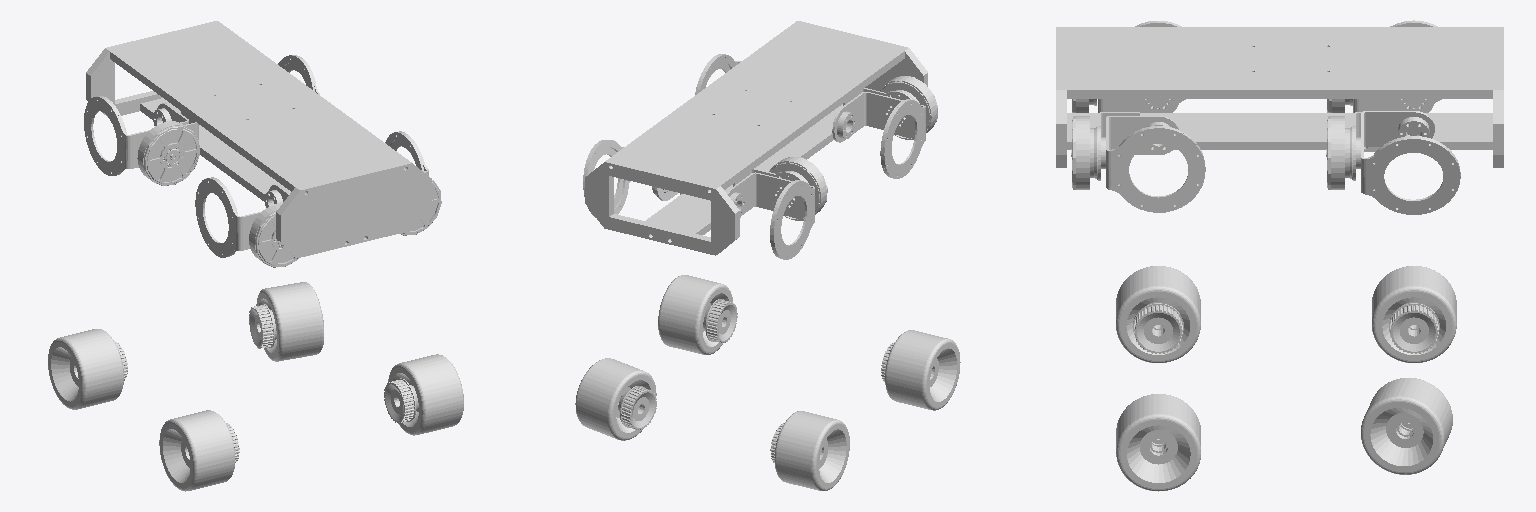
The robot description file, URDF, robot "legplsdontdie":
<?xml version="1.0" encoding="utf-8"?>
<!-- This URDF was automatically created by SolidWorks to URDF Exporter! Originally created by Stephen Brawner (brawner@gmail.com) 
     Commit Version: 1.6.0-4-g7f85cfe  Build Version: 1.6.7995.38578
     For more information, please see http://wiki.ros.org/sw_urdf_exporter -->
<robot
  name="legplsdontdie">
  <link
    name="base_link">
    <inertial>
      <origin
        xyz="0.837491492139642 -0.972075564965408 1.16249858131939"
        rpy="0 0 0" />
      <mass
        value="2.08362654858377" />
      <inertia
        ixx="0.0301960878113478"
        ixy="2.26157794619122E-18"
        ixz="-3.75267730629766E-10"
        iyy="0.00535275266306519"
        iyz="-2.31046346684137E-07"
        izz="0.0345230243527963" />
    </inertial>
    <visual>
      <origin
        xyz="0 0 0"
        rpy="0 0 0" />
      <geometry>
        <mesh
          filename="package://legplsdontdie/meshes/base_link.STL" />
      </geometry>
      <material
        name="">
        <color
          rgba="0.894117647058823 0.894117647058823 0.894117647058823 1" />
      </material>
    </visual>
    <collision>
      <origin
        xyz="0 0 0"
        rpy="0 0 0" />
      <geometry>
        <mesh
          filename="package://legplsdontdie/meshes/base_link.STL" />
      </geometry>
    </collision>
  </link>
  <link
    name="front_right_hip">
    <inertial>
      <origin
        xyz="0.00586709982152644 -0.00109387924658988 0.0786652080445772"
        rpy="0 0 0" />
      <mass
        value="0.0682835218758289" />
      <inertia
        ixx="0.00010899842767143"
        ixy="7.61836482680585E-06"
        ixz="1.69738785432681E-05"
        iyy="0.000148439931165717"
        iyz="-3.1646114936272E-06"
        izz="0.00011919420492883" />
    </inertial>
    <visual>
      <origin
        xyz="0 0 0"
        rpy="0 0 0" />
      <geometry>
        <mesh
          filename="package://legplsdontdie/meshes/front_right_hip.STL" />
      </geometry>
      <material
        name="">
        <color
          rgba="0.894117647058823 0.894117647058823 0.894117647058823 1" />
      </material>
    </visual>
    <collision>
      <origin
        xyz="0 0 0"
        rpy="0 0 0" />
      <geometry>
        <mesh
          filename="package://legplsdontdie/meshes/front_right_hip.STL" />
      </geometry>
    </collision>
  </link>
  <joint
    name="joint_FR1"
    type="continuous">
    <origin
      xyz="0.938841492139651 -0.736351710589816 1.12887994406759"
      rpy="1.5707963267949 0 0" />
    <parent
      link="base_link" />
    <child
      link="front_right_hip" />
    <axis
      xyz="0 0 1" />
  </joint>
  <link
    name="front_right_upperleg">
    <inertial>
      <origin
        xyz="0.00576717017665218 -0.0238153004074827 0.00489500079392668"
        rpy="0 0 0" />
      <mass
        value="0.25409816353557" />
      <inertia
        ixx="0.000290608679969887"
        ixy="-1.55295018330674E-05"
        ixz="-2.64322160417468E-07"
        iyy="0.000212077178180232"
        iyz="-9.02281683603711E-08"
        izz="0.000253161049920536" />
    </inertial>
    <visual>
      <origin
        xyz="0 0 0"
        rpy="0 0 0" />
      <geometry>
        <mesh
          filename="package://legplsdontdie/meshes/front_right_upperleg.STL" />
      </geometry>
      <material
        name="">
        <color
          rgba="0.894117647058823 0.894117647058823 0.894117647058823 1" />
      </material>
    </visual>
    <collision>
      <origin
        xyz="0 0 0"
        rpy="0 0 0" />
      <geometry>
        <mesh
          filename="package://legplsdontdie/meshes/front_right_upperleg.STL" />
      </geometry>
    </collision>
  </link>
  <joint
    name="joint_FR2"
    type="continuous">
    <origin
      xyz="0 0 0.05"
      rpy="0 0 0" />
    <parent
      link="front_right_hip" />
    <child
      link="front_right_upperleg" />
    <axis
      xyz="1 0 0" />
  </joint>
  <link
    name="front_right_lowerleg">
    <inertial>
      <origin
        xyz="-0.0496823860958082 -0.109304374844073 -0.0429283468923117"
        rpy="0 0 0" />
      <mass
        value="0.228830429344517" />
      <inertia
        ixx="0.000227364537542388"
        ixy="-2.22296498521375E-05"
        ixz="-1.70540956206237E-06"
        iyy="0.000110497362697726"
        iyz="-1.14299459021802E-05"
        izz="0.000209619285831467" />
    </inertial>
    <visual>
      <origin
        xyz="0 0 0"
        rpy="0 0 0" />
      <geometry>
        <mesh
          filename="package://legplsdontdie/meshes/front_right_lowerleg.STL" />
      </geometry>
      <material
        name="">
        <color
          rgba="0.894117647058823 0.894117647058823 0.894117647058823 1" />
      </material>
    </visual>
    <collision>
      <origin
        xyz="0 0 0"
        rpy="0 0 0" />
      <geometry>
        <mesh
          filename="package://legplsdontdie/meshes/front_right_lowerleg.STL" />
      </geometry>
    </collision>
  </link>
  <joint
    name="joint_FR3"
    type="continuous">
    <origin
      xyz="0 -0.179378082493681 0.00500000000132195"
      rpy="0 0 0" />
    <parent
      link="front_right_upperleg" />
    <child
      link="front_right_lowerleg" />
    <axis
      xyz="1 0 0" />
  </joint>
  <link
    name="front_right_wheel">
    <inertial>
      <origin
        xyz="0.00214758911403679 0.0010586642196917 0.00749493675092416"
        rpy="0 0 0" />
      <mass
        value="0.433565950722189" />
      <inertia
        ixx="0.000585506608611164"
        ixy="4.73764686392091E-06"
        ixz="3.35406588929725E-05"
        iyy="0.000403944888639664"
        iyz="8.74640917109006E-07"
        izz="0.000410013184880366" />
    </inertial>
    <visual>
      <origin
        xyz="0 0 0"
        rpy="0 0 0" />
      <geometry>
        <mesh
          filename="package://legplsdontdie/meshes/front_right_wheel.STL" />
      </geometry>
      <material
        name="">
        <color
          rgba="0.894117647058823 0.894117647058823 0.894117647058823 1" />
      </material>
    </visual>
    <collision>
      <origin
        xyz="0 0 0"
        rpy="0 0 0" />
      <geometry>
        <mesh
          filename="package://legplsdontdie/meshes/front_right_wheel.STL" />
      </geometry>
    </collision>
  </link>
  <joint
    name="joint_FR4"
    type="continuous">
    <origin
      xyz="0.027541 -0.16 0"
      rpy="0 0 0" />
    <parent
      link="front_right_lowerleg" />
    <child
      link="front_right_wheel" />
    <axis
      xyz="1 0 0" />
  </joint>
  <link
    name="back_right_hip">
    <inertial>
      <origin
        xyz="0.00596820174941048 -1.03465580547635E-08 0.0786652080445773"
        rpy="0 0 0" />
      <mass
        value="0.06828352187583" />
      <inertia
        ixx="0.000107578045766239"
        ixy="2.87306283016807E-11"
        ixz="1.7266363795163E-05"
        iyy="0.000149860313070913"
        iyz="1.73076976796288E-11"
        izz="0.000119194204928831" />
    </inertial>
    <visual>
      <origin
        xyz="0 0 0"
        rpy="0 0 0" />
      <geometry>
        <mesh
          filename="package://legplsdontdie/meshes/back_right_hip.STL" />
      </geometry>
      <material
        name="">
        <color
          rgba="0.894117647058823 0.894117647058823 0.894117647058823 1" />
      </material>
    </visual>
    <collision>
      <origin
        xyz="0 0 0"
        rpy="0 0 0" />
      <geometry>
        <mesh
          filename="package://legplsdontdie/meshes/back_right_hip.STL" />
      </geometry>
    </collision>
  </link>
  <joint
    name="joint_BR1"
    type="continuous">
    <origin
      xyz="0.93884 -1.0359 1.1289"
      rpy="1.5708 0 0" />
    <parent
      link="base_link" />
    <child
      link="back_right_hip" />
    <axis
      xyz="0 0 1" />
  </joint>
  <link
    name="back_right_upperleg">
    <inertial>
      <origin
        xyz="0.00998407455990236 -0.0221112390102158 0.00497407406201233"
        rpy="0 0 0" />
      <mass
        value="0.254098163006665" />
      <inertia
        ixx="0.000293567664041162"
        ixy="-3.5437418233404E-07"
        ixz="1.26797375602566E-07"
        iyy="0.000209119528716847"
        iyz="-1.77613926325139E-07"
        izz="0.000253159715046794" />
    </inertial>
    <visual>
      <origin
        xyz="0 0 0"
        rpy="0 0 0" />
      <geometry>
        <mesh
          filename="package://legplsdontdie/meshes/back_right_upperleg.STL" />
      </geometry>
      <material
        name="">
        <color
          rgba="0.894117647058823 0.894117647058823 0.894117647058823 1" />
      </material>
    </visual>
    <collision>
      <origin
        xyz="0 0 0"
        rpy="0 0 0" />
      <geometry>
        <mesh
          filename="package://legplsdontdie/meshes/back_right_upperleg.STL" />
      </geometry>
    </collision>
  </link>
  <joint
    name="joint_BR2"
    type="continuous">
    <origin
      xyz="0 0 0.05"
      rpy="0 0 0" />
    <parent
      link="back_right_hip" />
    <child
      link="back_right_upperleg" />
    <axis
      xyz="1 0 0" />
  </joint>
  <link
    name="back_right_lowerleg">
    <inertial>
      <origin
        xyz="0.00313707084206694 -0.113584537634935 -0.0424962734400056"
        rpy="0 0 0" />
      <mass
        value="0.228830429344515" />
      <inertia
        ixx="0.000231457353091744"
        ixy="-5.81151439161659E-09"
        ixz="5.8052619065161E-09"
        iyy="0.000106373345468602"
        iyz="-1.13763339381302E-05"
        izz="0.000209650487511229" />
    </inertial>
    <visual>
      <origin
        xyz="0 0 0"
        rpy="0 0 0" />
      <geometry>
        <mesh
          filename="package://legplsdontdie/meshes/back_right_lowerleg.STL" />
      </geometry>
      <material
        name="">
        <color
          rgba="0.894117647058823 0.894117647058823 0.894117647058823 1" />
      </material>
    </visual>
    <collision>
      <origin
        xyz="0 0 0"
        rpy="0 0 0" />
      <geometry>
        <mesh
          filename="package://legplsdontdie/meshes/back_right_lowerleg.STL" />
      </geometry>
    </collision>
  </link>
  <joint
    name="joint_BR3"
    type="continuous">
    <origin
      xyz="0 -0.179378082493681 0.00500000000132195"
      rpy="0 0 0" />
    <parent
      link="back_right_upperleg" />
    <child
      link="back_right_lowerleg" />
    <axis
      xyz="1 0 0" />
  </joint>
  <link
    name="back_right_wheel">
    <inertial>
      <origin
        xyz="0.0450289300630089 -1.27669597116409E-09 1.67681291074473E-09"
        rpy="0 0 0" />
      <mass
        value="0.433565950722189" />
      <inertia
        ixx="0.000591822040064194"
        ixy="7.83411973921812E-12"
        ixz="-1.02894021369377E-11"
        iyy="0.000403821349041375"
        iyz="3.02423575260969E-11"
        izz="0.000403821293025627" />
    </inertial>
    <visual>
      <origin
        xyz="0 0 0"
        rpy="0 0 0" />
      <geometry>
        <mesh
          filename="package://legplsdontdie/meshes/back_right_wheel.STL" />
      </geometry>
      <material
        name="">
        <color
          rgba="0.894117647058823 0.894117647058823 0.894117647058823 1" />
      </material>
    </visual>
    <collision>
      <origin
        xyz="0 0 0"
        rpy="0 0 0" />
      <geometry>
        <mesh
          filename="package://legplsdontdie/meshes/back_right_wheel.STL" />
      </geometry>
    </collision>
  </link>
  <joint
    name="joint_BR4"
    type="continuous">
    <origin
      xyz="0.027541 -0.16 0"
      rpy="0 0 0" />
    <parent
      link="back_right_lowerleg" />
    <child
      link="back_right_wheel" />
    <axis
      xyz="1 0 0" />
  </joint>
  <link
    name="front_left_hip">
    <inertial>
      <origin
        xyz="-0.00596820174941548 1.03454129707359E-08 0.0786652080445769"
        rpy="0 0 0" />
      <mass
        value="0.0682835218758296" />
      <inertia
        ixx="0.000107578045766238"
        ixy="2.87306280721847E-11"
        ixz="-1.72663637951629E-05"
        iyy="0.000149860313070912"
        iyz="-1.73076973646736E-11"
        izz="0.000119194204928831" />
    </inertial>
    <visual>
      <origin
        xyz="0 0 0"
        rpy="0 0 0" />
      <geometry>
        <mesh
          filename="package://legplsdontdie/meshes/front_left_hip.STL" />
      </geometry>
      <material
        name="">
        <color
          rgba="0.894117647058823 0.894117647058823 0.894117647058823 1" />
      </material>
    </visual>
    <collision>
      <origin
        xyz="0 0 0"
        rpy="0 0 0" />
      <geometry>
        <mesh
          filename="package://legplsdontdie/meshes/front_left_hip.STL" />
      </geometry>
    </collision>
  </link>
  <joint
    name="joint_FL1"
    type="continuous">
    <origin
      xyz="0.73614 -0.73585 1.1289"
      rpy="1.5708 0 0" />
    <parent
      link="base_link" />
    <child
      link="front_left_hip" />
    <axis
      xyz="0 0 1" />
  </joint>
  <link
    name="front_left_upperleg">
    <inertial>
      <origin
        xyz="-0.00998407455990846 -0.0221112390113303 0.00495165037227896"
        rpy="0 0 0" />
      <mass
        value="0.25409816300666" />
      <inertia
        ixx="0.000293567664041157"
        ixy="3.54374182333348E-07"
        ixz="-9.6402759296397E-08"
        iyy="0.000209119528716843"
        iyz="-2.68800072303226E-07"
        izz="0.000253159715046789" />
    </inertial>
    <visual>
      <origin
        xyz="0 0 0"
        rpy="0 0 0" />
      <geometry>
        <mesh
          filename="package://legplsdontdie/meshes/front_left_upperleg.STL" />
      </geometry>
      <material
        name="">
        <color
          rgba="0.894117647058823 0.894117647058823 0.894117647058823 1" />
      </material>
    </visual>
    <collision>
      <origin
        xyz="0 0 0"
        rpy="0 0 0" />
      <geometry>
        <mesh
          filename="package://legplsdontdie/meshes/front_left_upperleg.STL" />
      </geometry>
    </collision>
  </link>
  <joint
    name="joint_FL2"
    type="continuous">
    <origin
      xyz="0 0 0.05"
      rpy="0 0 0" />
    <parent
      link="front_left_hip" />
    <child
      link="front_left_upperleg" />
    <axis
      xyz="1 0 0" />
  </joint>
  <link
    name="front_left_lowerleg">
    <inertial>
      <origin
        xyz="-0.00313707084207049 -0.113584540455344 -0.0424962728185976"
        rpy="0 0 0" />
      <mass
        value="0.228830429344516" />
      <inertia
        ixx="0.000231457353091744"
        ixy="5.80698239952246E-09"
        ixz="-5.80606638398738E-09"
        iyy="0.000106373346469612"
        iyz="-1.13763375269897E-05"
        izz="0.000209650486510219" />
    </inertial>
    <visual>
      <origin
        xyz="0 0 0"
        rpy="0 0 0" />
      <geometry>
        <mesh
          filename="package://legplsdontdie/meshes/front_left_lowerleg.STL" />
      </geometry>
      <material
        name="">
        <color
          rgba="0.894117647058823 0.894117647058823 0.894117647058823 1" />
      </material>
    </visual>
    <collision>
      <origin
        xyz="0 0 0"
        rpy="0 0 0" />
      <geometry>
        <mesh
          filename="package://legplsdontdie/meshes/front_left_lowerleg.STL" />
      </geometry>
    </collision>
  </link>
  <joint
    name="joint_FL3"
    type="continuous">
    <origin
      xyz="0 -0.179378082494792 0.00500000000229572"
      rpy="0 0 0" />
    <parent
      link="front_left_upperleg" />
    <child
      link="front_left_lowerleg" />
    <axis
      xyz="1 0 0" />
  </joint>
  <link
    name="front_left_wheel">
    <inertial>
      <origin
        xyz="-0.0450289300630079 -1.27608035249693E-09 -1.67608993351109E-09"
        rpy="0 0 0" />
      <mass
        value="0.433565950722188" />
      <inertia
        ixx="0.000591822040064192"
        ixy="-7.83411971966874E-12"
        ixz="-1.02894027463512E-11"
        iyy="0.000403821349041373"
        iyz="-3.02423575272422E-11"
        izz="0.000403821293025625" />
    </inertial>
    <visual>
      <origin
        xyz="0 0 0"
        rpy="0 0 0" />
      <geometry>
        <mesh
          filename="package://legplsdontdie/meshes/front_left_wheel.STL" />
      </geometry>
      <material
        name="">
        <color
          rgba="0.894117647058823 0.894117647058823 0.894117647058823 1" />
      </material>
    </visual>
    <collision>
      <origin
        xyz="0 0 0"
        rpy="0 0 0" />
      <geometry>
        <mesh
          filename="package://legplsdontdie/meshes/front_left_wheel.STL" />
      </geometry>
    </collision>
  </link>
  <joint
    name="joint_FL4"
    type="continuous">
    <origin
      xyz="-0.027541 -0.16 0"
      rpy="0 0 0" />
    <parent
      link="front_left_lowerleg" />
    <child
      link="front_left_wheel" />
    <axis
      xyz="1 0 0" />
  </joint>
  <link
    name="back_left_hip">
    <inertial>
      <origin
        xyz="-0.00596820174938839 1.03465618295218E-08 0.0786652080445767"
        rpy="0 0 0" />
      <mass
        value="0.0682835218758282" />
      <inertia
        ixx="0.000107578045766237"
        ixy="2.87306286168482E-11"
        ixz="-1.72663637951635E-05"
        iyy="0.00014986031307091"
        iyz="-1.73076977033451E-11"
        izz="0.00011919420492883" />
    </inertial>
    <visual>
      <origin
        xyz="0 0 0"
        rpy="0 0 0" />
      <geometry>
        <mesh
          filename="package://legplsdontdie/meshes/back_left_hip.STL" />
      </geometry>
      <material
        name="">
        <color
          rgba="0.894117647058823 0.894117647058823 0.894117647058823 1" />
      </material>
    </visual>
    <collision>
      <origin
        xyz="0 0 0"
        rpy="0 0 0" />
      <geometry>
        <mesh
          filename="package://legplsdontdie/meshes/back_left_hip.STL" />
      </geometry>
    </collision>
  </link>
  <joint
    name="joint_BL1"
    type="continuous">
    <origin
      xyz="0.736141492139647 -1.03635171059016 1.12887994406758"
      rpy="1.5707963267949 0 0" />
    <parent
      link="base_link" />
    <child
      link="back_left_hip" />
    <axis
      xyz="0 0 1" />
  </joint>
  <link
    name="back_left_upperleg">
    <inertial>
      <origin
        xyz="-0.0099840745598756 -0.0221112390101299 0.00495165037235989"
        rpy="0 0 0" />
      <mass
        value="0.254098163006661" />
      <inertia
        ixx="0.000293567664041159"
        ixy="3.54374182334643E-07"
        ixz="-9.64027592751218E-08"
        iyy="0.000209119528716847"
        iyz="-2.6880007347407E-07"
        izz="0.000253159715046788" />
    </inertial>
    <visual>
      <origin
        xyz="0 0 0"
        rpy="0 0 0" />
      <geometry>
        <mesh
          filename="package://legplsdontdie/meshes/back_left_upperleg.STL" />
      </geometry>
      <material
        name="">
        <color
          rgba="0.894117647058823 0.894117647058823 0.894117647058823 1" />
      </material>
    </visual>
    <collision>
      <origin
        xyz="0 0 0"
        rpy="0 0 0" />
      <geometry>
        <mesh
          filename="package://legplsdontdie/meshes/back_left_upperleg.STL" />
      </geometry>
    </collision>
  </link>
  <joint
    name="joint_BL2"
    type="continuous">
    <origin
      xyz="0 0 0.05"
      rpy="0 0 0" />
    <parent
      link="back_left_hip" />
    <child
      link="back_left_upperleg" />
    <axis
      xyz="1 0 0" />
  </joint>
  <link
    name="back_left_lowerleg">
    <inertial>
      <origin
        xyz="-0.00313707084204307 -0.113584540455751 -0.0424962728174971"
        rpy="0 0 0" />
      <mass
        value="0.228830429344517" />
      <inertia
        ixx="0.000231457353091744"
        ixy="5.80698239946474E-09"
        ixz="-5.80606638404945E-09"
        iyy="0.000106373346469393"
        iyz="-1.13763375259939E-05"
        izz="0.000209650486510439" />
    </inertial>
    <visual>
      <origin
        xyz="0 0 0"
        rpy="0 0 0" />
      <geometry>
        <mesh
          filename="package://legplsdontdie/meshes/back_left_lowerleg.STL" />
      </geometry>
      <material
        name="">
        <color
          rgba="0.894117647058823 0.894117647058823 0.894117647058823 1" />
      </material>
    </visual>
    <collision>
      <origin
        xyz="0 0 0"
        rpy="0 0 0" />
      <geometry>
        <mesh
          filename="package://legplsdontdie/meshes/back_left_lowerleg.STL" />
      </geometry>
    </collision>
  </link>
  <joint
    name="joint_BL3"
    type="continuous">
    <origin
      xyz="0 -0.179378082493594 0.0049999999981134"
      rpy="0 0 0" />
    <parent
      link="back_left_upperleg" />
    <child
      link="back_left_lowerleg" />
    <axis
      xyz="1 0 0" />
  </joint>
  <link
    name="back_left_wheel">
    <inertial>
      <origin
        xyz="-0.0450289300630219 -1.27670607419361E-09 -1.67716640575577E-09"
        rpy="0 0 0" />
      <mass
        value="0.433565950722189" />
      <inertia
        ixx="0.000591822040064193"
        ixy="-7.83411974846951E-12"
        ixz="-1.02894028569646E-11"
        iyy="0.000403821349041374"
        iyz="-3.02423575290137E-11"
        izz="0.000403821293025626" />
    </inertial>
    <visual>
      <origin
        xyz="0 0 0"
        rpy="0 0 0" />
      <geometry>
        <mesh
          filename="package://legplsdontdie/meshes/back_left_wheel.STL" />
      </geometry>
      <material
        name="">
        <color
          rgba="0.894117647058823 0.894117647058823 0.894117647058823 1" />
      </material>
    </visual>
    <collision>
      <origin
        xyz="0 0 0"
        rpy="0 0 0" />
      <geometry>
        <mesh
          filename="package://legplsdontdie/meshes/back_left_wheel.STL" />
      </geometry>
    </collision>
  </link>
  <joint
    name="joint_BL4"
    type="continuous">
    <origin
      xyz="-0.027541 -0.16 0"
      rpy="0 0 0" />
    <parent
      link="back_left_lowerleg" />
    <child
      link="back_left_wheel" />
    <axis
      xyz="1 0 0" />
  </joint>
</robot>

--- What the picture shows (computed from the rendered views, not written in the file) ---
Views: 3 orthographic renders of the robot side by side, from view 1: azimuth 30°, elevation 25°; view 2: azimuth 150°, elevation 25°; view 3: azimuth 270°, elevation 25°.
Robot: legplsdontdie — 17 links, 16 joints (16 continuous); root link base_link; default pose: every joint at zero.
Visible links, largest first — view 1: base_link, back_left_wheel, front_left_wheel, back_right_wheel, front_right_wheel, front_left_hip, back_left_hip, back_right_hip, front_right_hip; view 2: base_link, front_right_wheel, back_right_wheel, back_left_wheel, front_left_wheel, back_left_hip, front_left_hip, front_right_hip, back_right_hip; view 3: base_link, front_right_wheel, back_left_wheel, back_right_wheel, front_left_wheel, front_right_hip, back_right_hip, back_left_hip, front_left_hip.
Boxes of the visible links, x1,y1,x2,y2 form: base_link: (86, 21, 441, 267); back_left_wheel: (159, 410, 239, 491); front_left_wheel: (48, 329, 127, 409); back_right_wheel: (384, 354, 463, 435); front_right_wheel: (249, 282, 323, 361); front_left_hip: (84, 96, 188, 175); back_left_hip: (195, 177, 289, 257); back_right_hip: (385, 131, 428, 175); front_right_hip: (278, 55, 319, 94); base_link: (585, 21, 937, 255); front_right_wheel: (575, 358, 656, 440); back_right_wheel: (658, 275, 737, 354); back_left_wheel: (881, 330, 960, 410); front_left_wheel: (770, 411, 849, 490); back_left_hip: (832, 92, 925, 178); front_left_hip: (727, 172, 814, 259); front_right_hip: (583, 140, 677, 217); back_right_hip: (695, 54, 741, 94); base_link: (1056, 27, 1503, 189); front_right_wheel: (1361, 378, 1452, 474); back_left_wheel: (1116, 266, 1200, 362); back_right_wheel: (1116, 394, 1200, 491); front_left_wheel: (1372, 266, 1456, 362); front_right_hip: (1356, 111, 1460, 214); back_right_hip: (1101, 116, 1205, 212); back_left_hip: (1135, 21, 1185, 112); front_left_hip: (1390, 20, 1441, 112).
Size in the robot's own frame: 0.421 by 0.5254 by 0.4644 metres.
9 mesh visuals loaded from 17 distinct referenced files (9 binary STL); not drawn: 8 (reference not matched to a file when rendering).
